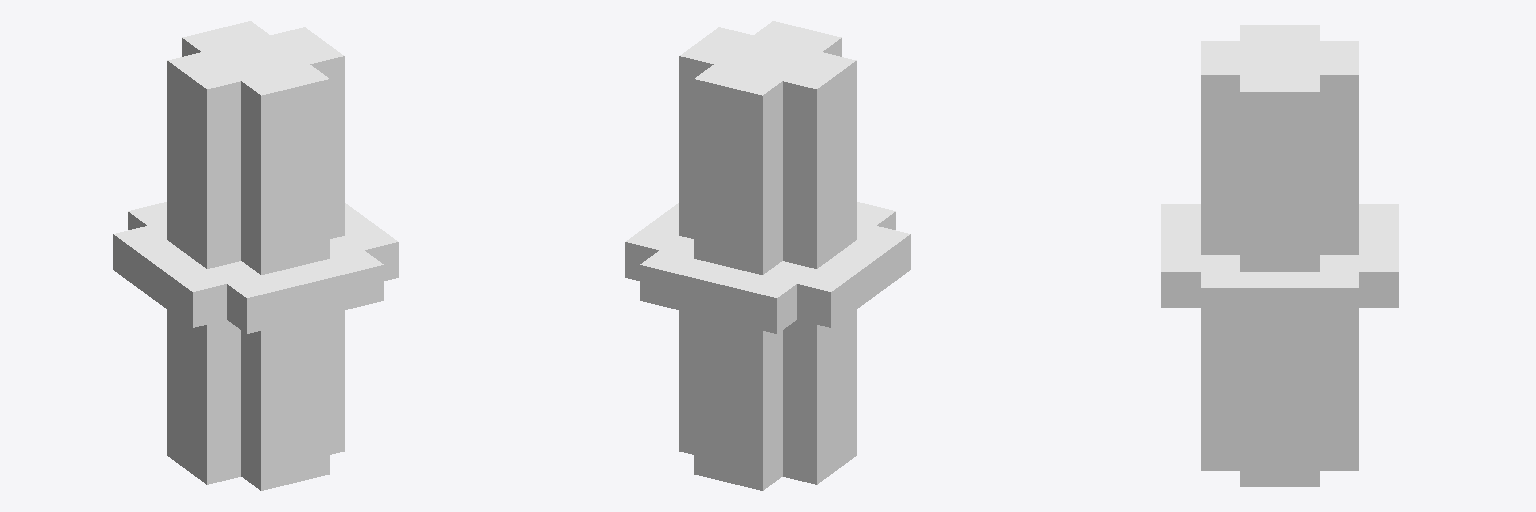
The model's file is red_pipe_10.obj.
3 renders of one model, left to right at view 1: azimuth 30°, elevation 25°; view 2: azimuth 150°, elevation 25°; view 3: azimuth 270°, elevation 25°, orthographic.
Parts seen in each view (by area): view 1: object 1; view 2: object 1; view 3: object 1.
Part boxes in pixels (left/top/right/bottom): object 1: left=113, top=21, right=398, bottom=490; object 1: left=625, top=21, right=910, bottom=490; object 1: left=1161, top=25, right=1398, bottom=486.
Bounding box in the file's own units: 0.6 × 1.1 × 0.6.